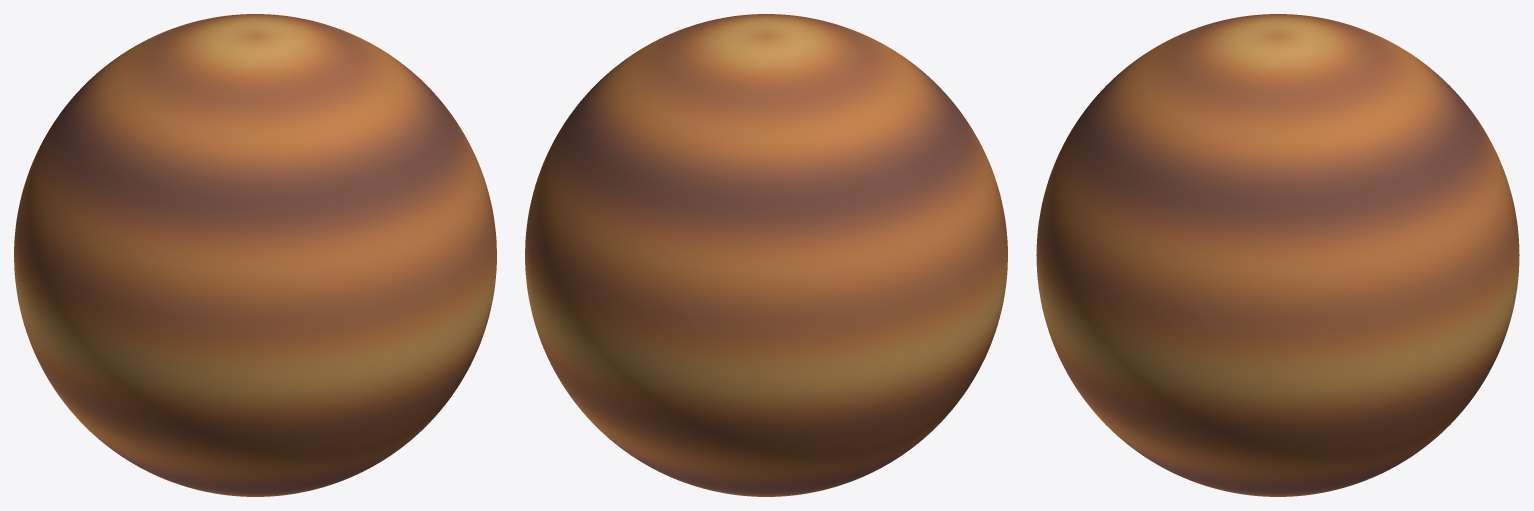
File: cosmos-planet-hi.glb
The picture shows the model from 3 angles, left to right: view 1: azimuth 30°, elevation 25°; view 2: azimuth 150°, elevation 25°; view 3: azimuth 270°, elevation 25°; orthographic projection.
Size of the model in its own units: 0.4 by 0.4 by 0.4.
Materials: 1 (1 with a texture image).
